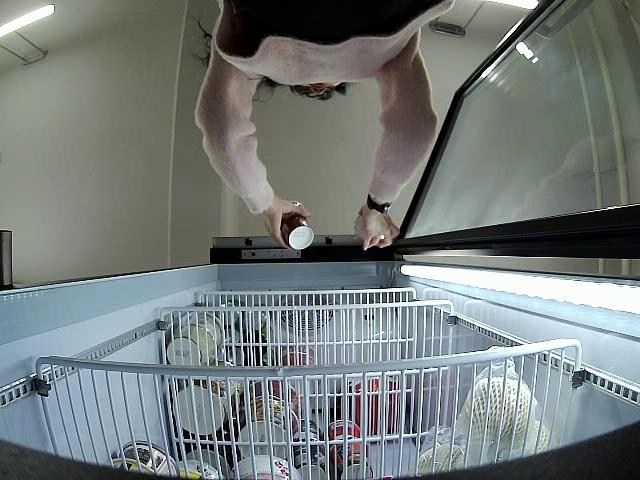00_hand: (265, 197, 310, 251), (359, 204, 401, 251)
06_nuguri_S: (280, 201, 315, 251)
